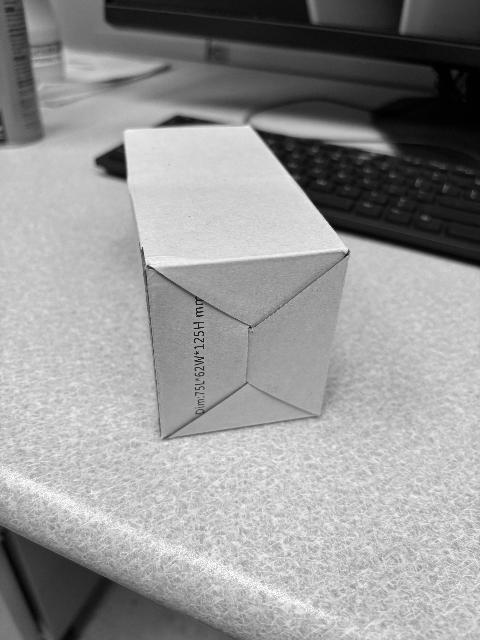CameraBox1: (122, 126, 349, 442)
